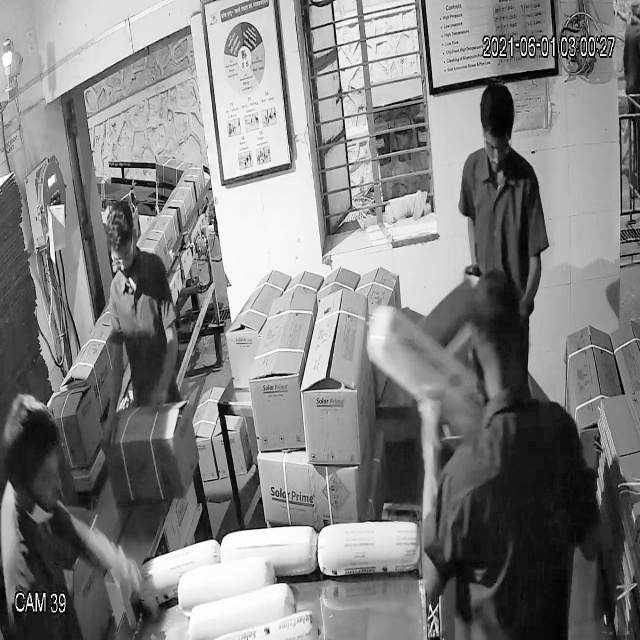Gafas: (106, 236, 142, 272)
